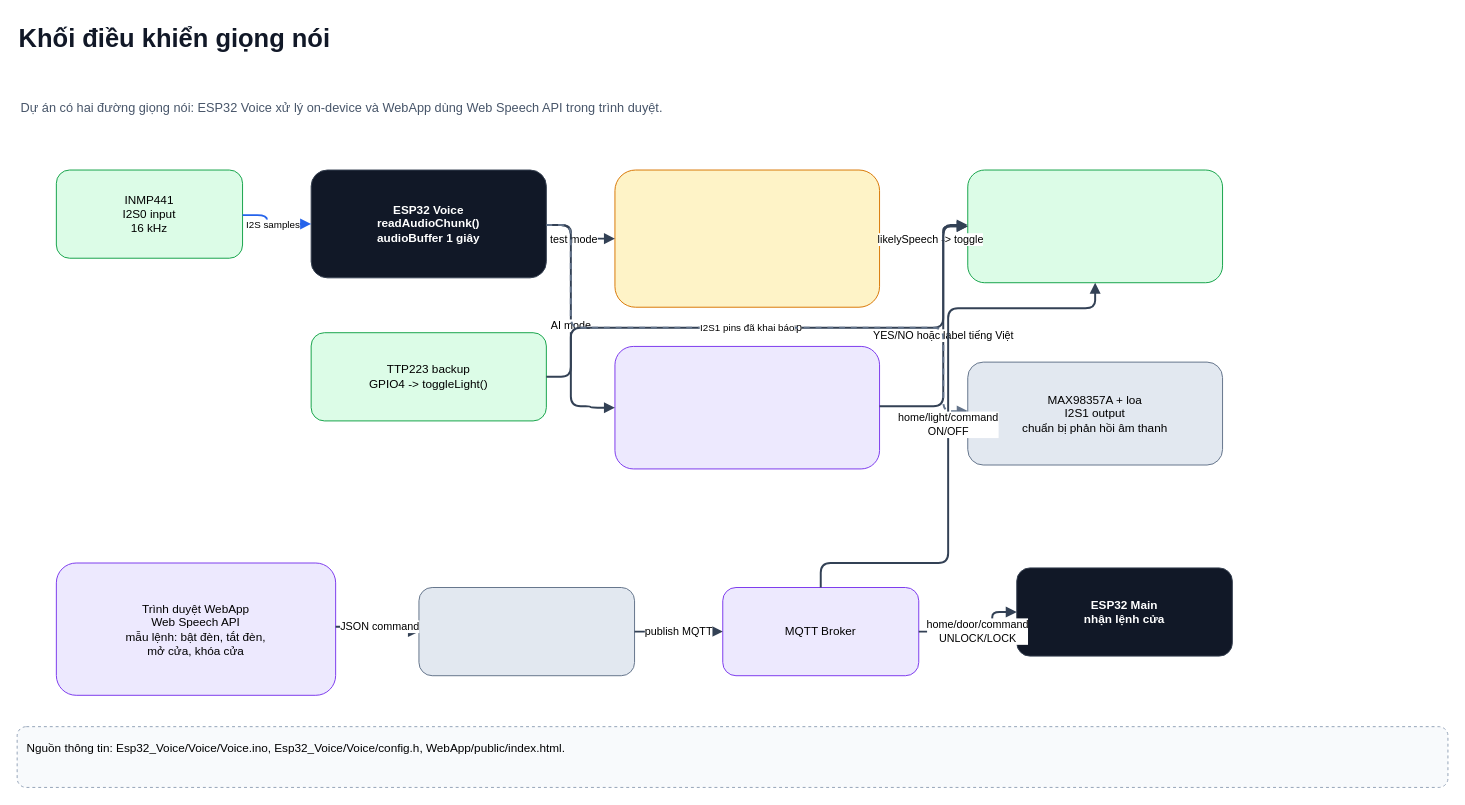
Some shapes in this 1465 by 805 pixel diagram are drawn without their labels. The centre of each missing label's shape, as x and y in pixels:
"Mode mặc định: VAD test RMS > threshold ZCR < 0.25 autocorr > 0.6" belongs at (747,238).
"Mode tùy chọn: TFLite / Edge Impulse inference mỗi 500 ms confidence >= 0.75" belongs at (747,407).
"setLight() GPIO5 LED publish home/light/state" belongs at (1095,226).
"WebSocket server server.js" belongs at (526,631).
